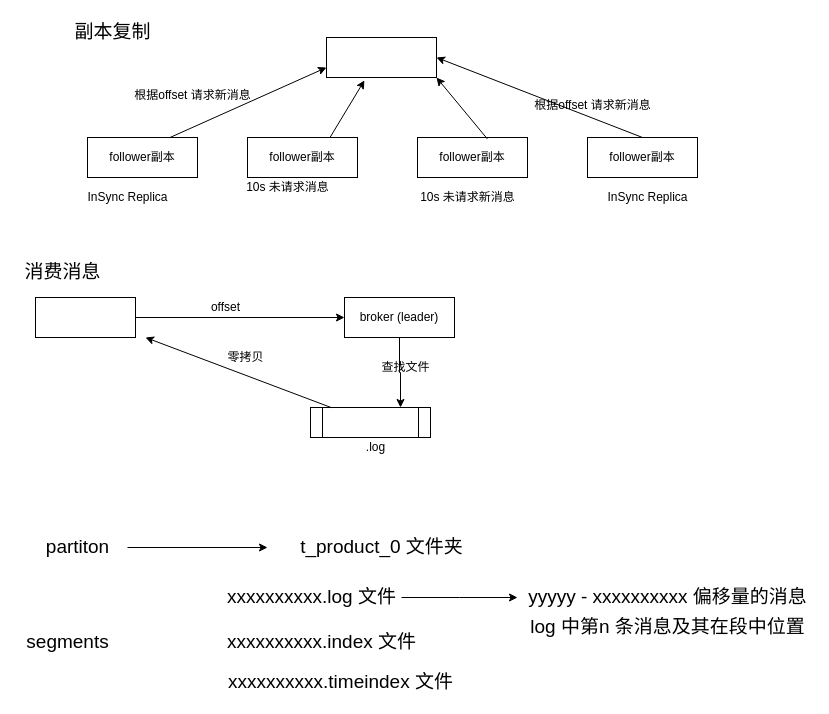
Image size: 829x714. Some labels were removed from this diagram. The shapes that lost their labels are listed below. From the top down, each one's box as (x1, y1, x2, y2) in pixels, then its label:
(326, 36, 436, 78): 首领副本
(34, 296, 136, 338): consumer
